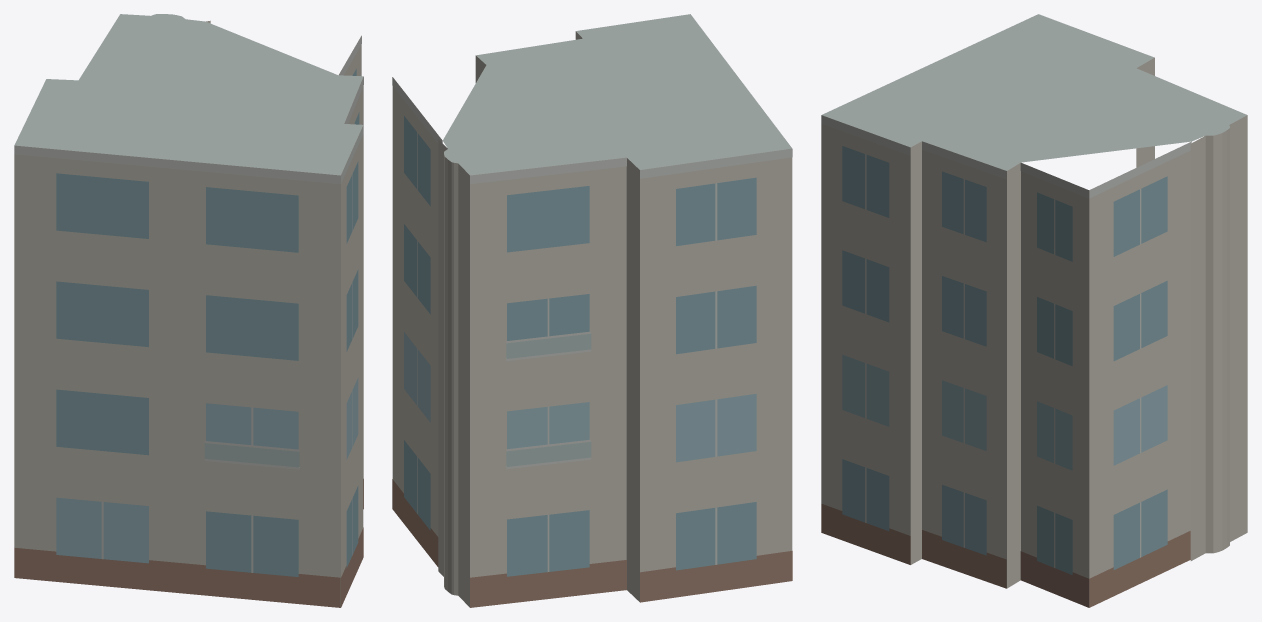
Rendered from survey-upis-32621093.glb.
3 renders of one model, left to right at view 1: azimuth 30°, elevation 25°; view 2: azimuth 150°, elevation 25°; view 3: azimuth 270°, elevation 25°, orthographic. The views are drawn at different scales.
Visible parts, largest first — view 1: survey-upis-32621093.tmp; view 2: survey-upis-32621093.tmp; view 3: survey-upis-32621093.tmp.
Part boxes in pixels (bbox=[...]): survey-upis-32621093.tmp: bbox=[14, 14, 363, 607]; survey-upis-32621093.tmp: bbox=[392, 14, 792, 607]; survey-upis-32621093.tmp: bbox=[821, 14, 1247, 607].
Size of the model in its own units: 10.93 by 12.07 by 11.17.
